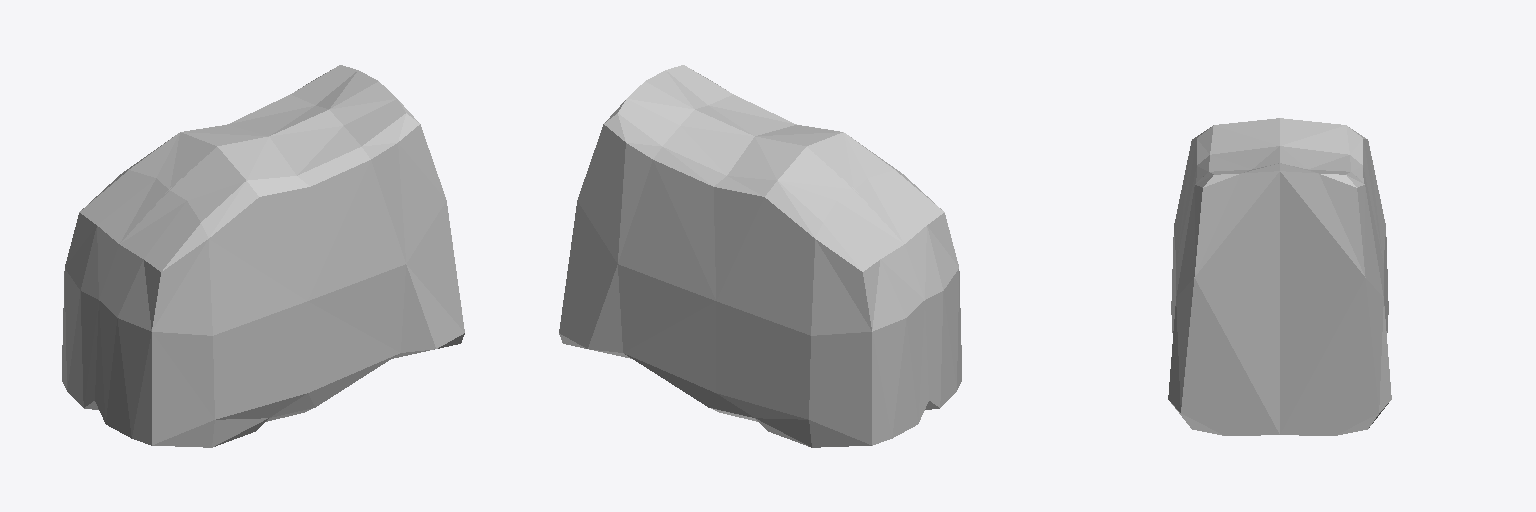
The model's file is elephant_body.obj.
3 renders of one model, left to right at view 1: azimuth 30°, elevation 25°; view 2: azimuth 150°, elevation 25°; view 3: azimuth 270°, elevation 25°, orthographic.
Parts seen in each view (by area): view 1: Plane; view 2: Plane; view 3: Plane.
Boxes of the visible parts, x1,y1,x2,y2 form: Plane: [62, 65, 464, 447]; Plane: [559, 65, 961, 447]; Plane: [1168, 118, 1391, 435].
Bounding box in the file's own units: 2.15 × 1.85 × 1.29.